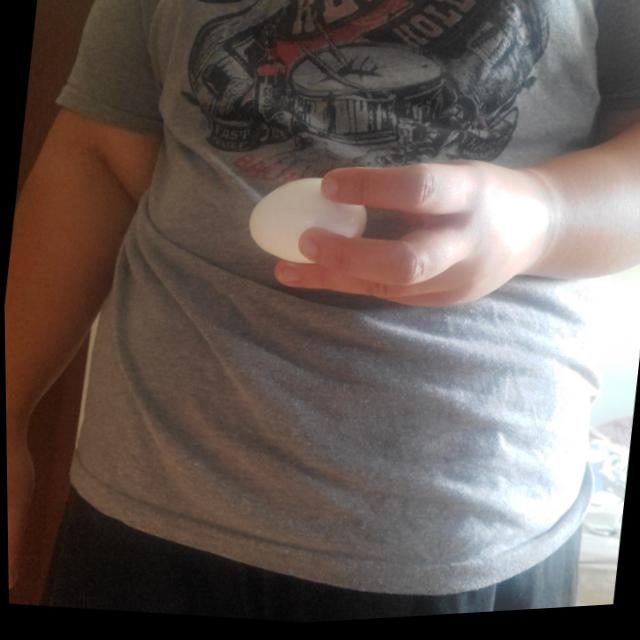egg: (246, 170, 370, 276)
